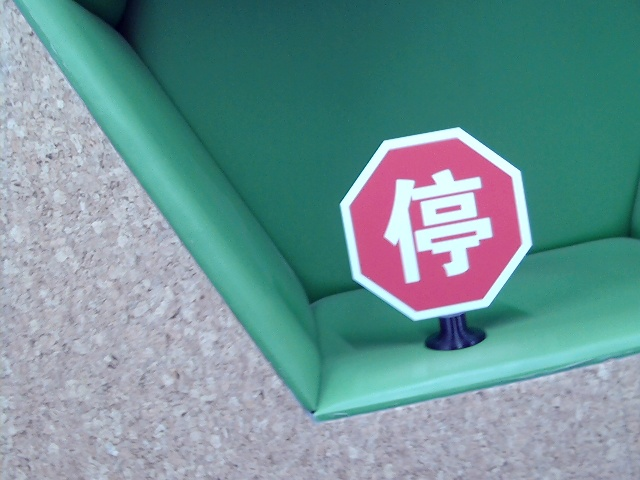stop: (378, 168, 500, 277)
